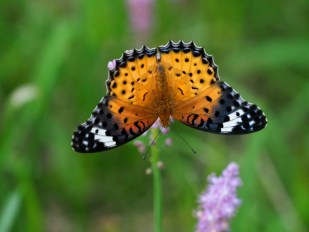Argyreus hyperbius: (68, 38, 269, 164)
butterfly: (70, 40, 271, 166)
